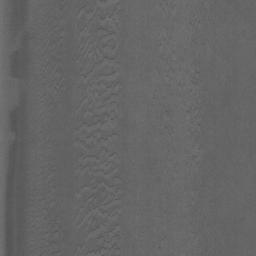Silk spot: (72, 0, 134, 256), (148, 51, 208, 140), (39, 182, 67, 256), (42, 59, 69, 112), (157, 155, 200, 184), (48, 0, 64, 46), (189, 1, 216, 26)
